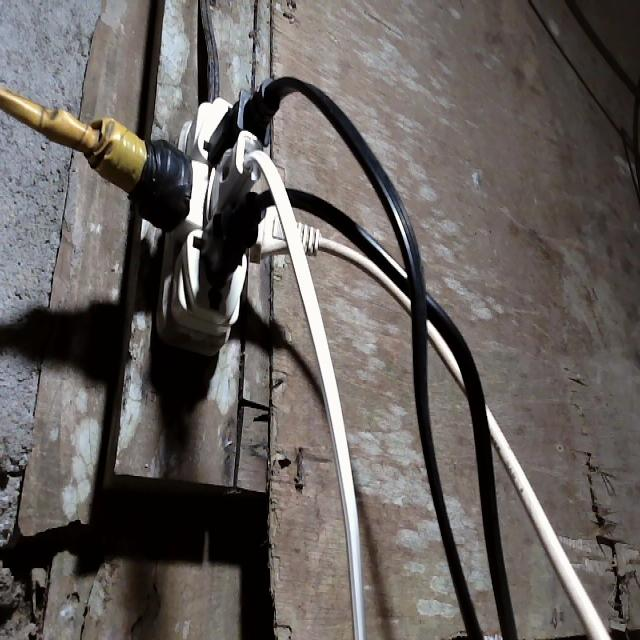-: (125, 77, 322, 344)
